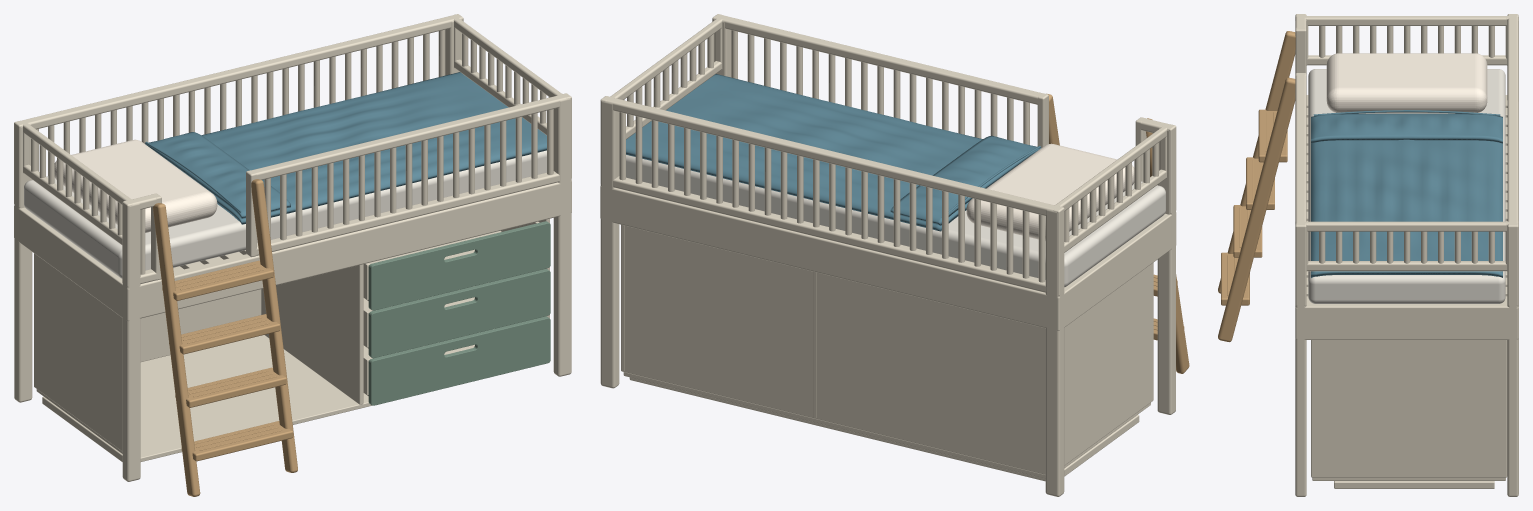
File: junior-cabin-bed-spindles-left.glb
3 renders of one model, left to right at view 1: azimuth 30°, elevation 25°; view 2: azimuth 150°, elevation 25°; view 3: azimuth 270°, elevation 25°, orthographic. The views are drawn at different scales.
Parts seen in each view (by area): view 1: 01 • Frame, 03 • Drawer fronts, 06 • Quilt, 02 • Ladder, 04 • Mattress, 05 • Pillow; view 2: 01 • Frame, 06 • Quilt, 04 • Mattress, 05 • Pillow, 02 • Ladder; view 3: 01 • Frame, 06 • Quilt, 05 • Pillow, 02 • Ladder, 04 • Mattress.
Part boxes in pixels (box(x1,y1,x2,y2)): 01 • Frame: box(14, 14, 571, 481); 03 • Drawer fronts: box(368, 221, 550, 405); 06 • Quilt: box(145, 72, 546, 224); 02 • Ladder: box(153, 179, 297, 496); 04 • Mattress: box(24, 150, 546, 278); 05 • Pillow: box(54, 139, 217, 232); 01 • Frame: box(600, 14, 1176, 496); 06 • Quilt: box(626, 74, 1041, 231); 04 • Mattress: box(626, 155, 1165, 287); 05 • Pillow: box(966, 143, 1134, 240); 02 • Ladder: box(1046, 93, 1189, 373); 01 • Frame: box(1295, 14, 1518, 496); 06 • Quilt: box(1311, 110, 1502, 277); 05 • Pillow: box(1326, 53, 1487, 113); 02 • Ladder: box(1218, 31, 1295, 342); 04 • Mattress: box(1308, 69, 1505, 303).
Size of the model in its own units: 1.91 by 1.14 by 1.14.
